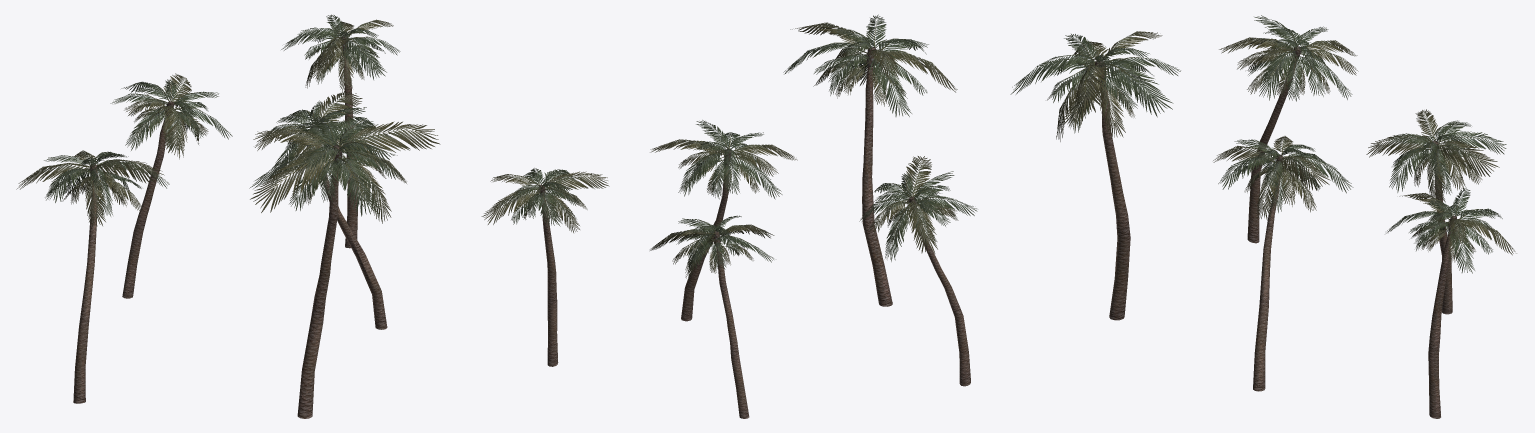
The model's file is Palm Tree.fbx.
3 views of the same model, side by side, from view 1: azimuth 30°, elevation 25°; view 2: azimuth 150°, elevation 25°; view 3: azimuth 270°, elevation 25° (orthographic). The views are drawn at different scales.
Parts seen in each view (by area): view 1: Palm Tree By Hamza_002, Palm Tree By Hamza_003, Palm Tree By Hamza_004, Palm Tree By Hamza_006, Palm Tree By Hamza_005; view 2: Palm Tree By Hamza_002, Palm Tree By Hamza_003, Palm Tree By Hamza_005, Palm Tree By Hamza_006, Palm Tree By Hamza_004; view 3: Palm Tree By Hamza_002, Palm Tree By Hamza_005, Palm Tree By Hamza_003, Palm Tree By Hamza_004, Palm Tree By Hamza_006.
Part boxes in pixels (x1,y1,x2,y2): Palm Tree By Hamza_002: (249,116,440,418); Palm Tree By Hamza_003: (16,150,169,403); Palm Tree By Hamza_004: (110,73,232,298); Palm Tree By Hamza_006: (281,14,400,248); Palm Tree By Hamza_005: (255,91,387,329); Palm Tree By Hamza_002: (783,14,957,306); Palm Tree By Hamza_003: (859,156,977,386); Palm Tree By Hamza_005: (650,120,797,321); Palm Tree By Hamza_006: (481,168,609,366); Palm Tree By Hamza_004: (650,215,774,418); Palm Tree By Hamza_002: (1010,31,1180,320); Palm Tree By Hamza_005: (1213,136,1353,391); Palm Tree By Hamza_003: (1219,15,1358,243); Palm Tree By Hamza_004: (1366,109,1506,314); Palm Tree By Hamza_006: (1386,187,1516,418).
Size of the model in its own units: 1680 by 1029 by 1689.
Materials: 1 (1 with a texture image).
